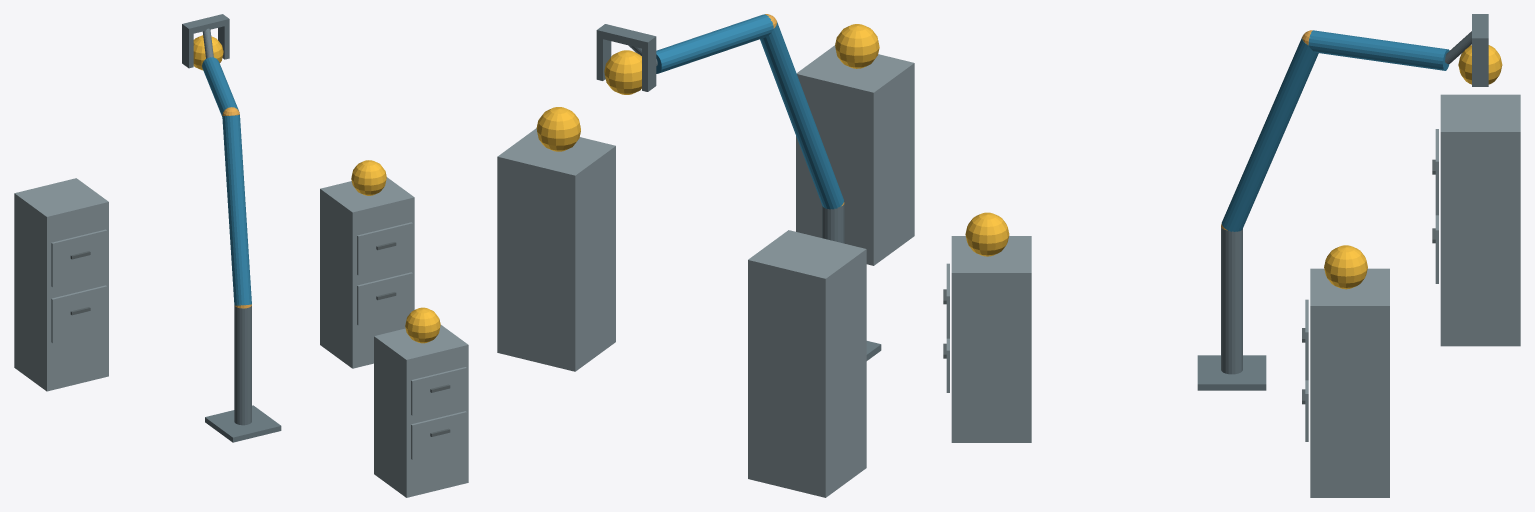
3 renders of one model, left to right at view 1: azimuth 30°, elevation 25°; view 2: azimuth 150°, elevation 25°; view 3: azimuth 270°, elevation 25°, orthographic. The views are drawn at different scales.
Parts seen in each view (by area): view 1: cabinet_3 body, cabinet_1 body, cabinet_2 body, moving link 1, cabinet_3 drawer front.001, cabinet_3 drawer front, cabinet_2 drawer front.001, cabinet_2 drawer front, fixed post, cabinet_1 drawer front.001, cabinet_1 drawer front, pedestal (+5 smaller); view 2: cabinet_3 body, cabinet_2 body, cabinet_1 body, moving link 1, moving link 2, released ball_1, released ball_2, ball ball_3, gripper bridge, fixed post, gripper finger -1, gripper finger 1; view 3: cabinet_3 body, cabinet_2 body, cabinet_1 body, moving link 1, fixed post, moving link 2, pedestal, released ball_1, released ball_2, ball ball_3, gripper finger 1.
Boxes of the visible parts, x1,y1,x2,y2 form: cabinet_3 body: [14, 178, 108, 391]; cabinet_1 body: [374, 325, 468, 497]; cabinet_2 body: [320, 177, 414, 368]; moving link 1: [222, 115, 251, 305]; cabinet_3 drawer front.001: [51, 229, 107, 287]; cabinet_3 drawer front: [51, 285, 107, 343]; cabinet_2 drawer front.001: [357, 222, 412, 275]; cabinet_2 drawer front: [357, 272, 412, 325]; fixed post: [234, 306, 251, 425]; cabinet_1 drawer front.001: [411, 367, 466, 415]; cabinet_1 drawer front: [411, 411, 466, 459]; pedestal: [205, 405, 281, 442]; cabinet_3 body: [748, 230, 866, 497]; cabinet_2 body: [497, 128, 615, 371]; cabinet_1 body: [796, 45, 914, 265]; moving link 1: [760, 22, 843, 209]; moving link 2: [656, 14, 773, 73]; released ball_1: [835, 24, 879, 68]; released ball_2: [536, 107, 580, 151]; ball ball_3: [604, 50, 641, 94]; gripper bridge: [596, 24, 656, 49]; fixed post: [822, 203, 844, 243]; gripper finger -1: [642, 44, 656, 91]; gripper finger 1: [596, 38, 611, 80]; cabinet_3 body: [1440, 94, 1520, 346]; cabinet_2 body: [1310, 268, 1389, 497]; cabinet_1 body: [951, 236, 1031, 442]; moving link 1: [1221, 38, 1318, 231]; fixed post: [1221, 227, 1242, 374]; moving link 2: [1308, 30, 1449, 70]; pedestal: [1197, 355, 1266, 390]; released ball_1: [965, 212, 1009, 256]; released ball_2: [1324, 245, 1367, 289]; ball ball_3: [1458, 45, 1502, 84]; gripper finger 1: [1472, 46, 1488, 86].
Size of the model in its own units: 1.62 by 1.55 by 2.1.
